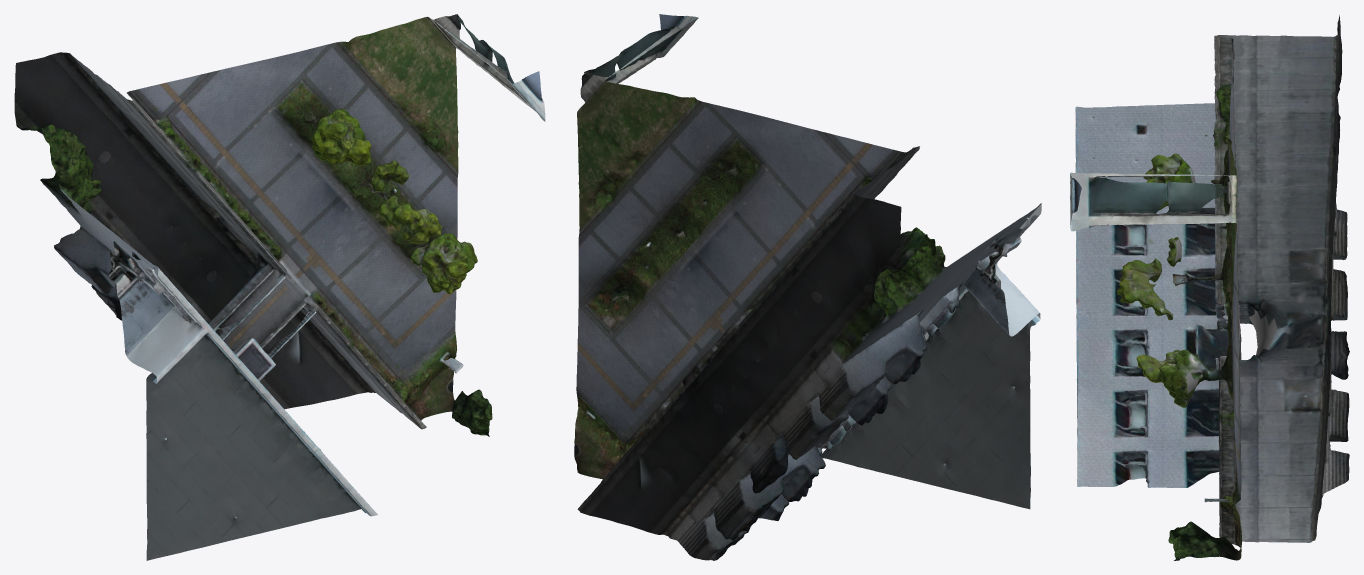
Rendered from Tile_+015_+015.fbx.
The picture shows the model from 3 angles, left to right: view 1: azimuth 30°, elevation 25°; view 2: azimuth 150°, elevation 25°; view 3: azimuth 270°, elevation 25°; orthographic projection. The views are drawn at different scales.
Visible parts, largest first — view 1: DefaultName; view 2: DefaultName; view 3: DefaultName.
Part boxes in pixels (x1=…): DefaultName: x1=14, y1=14, x2=545, y2=560; DefaultName: x1=574, y1=14, x2=1041, y2=560; DefaultName: x1=1070, y1=15, x2=1349, y2=560.
Size of the model in its own units: 22.54 by 22.54 by 15.33.
